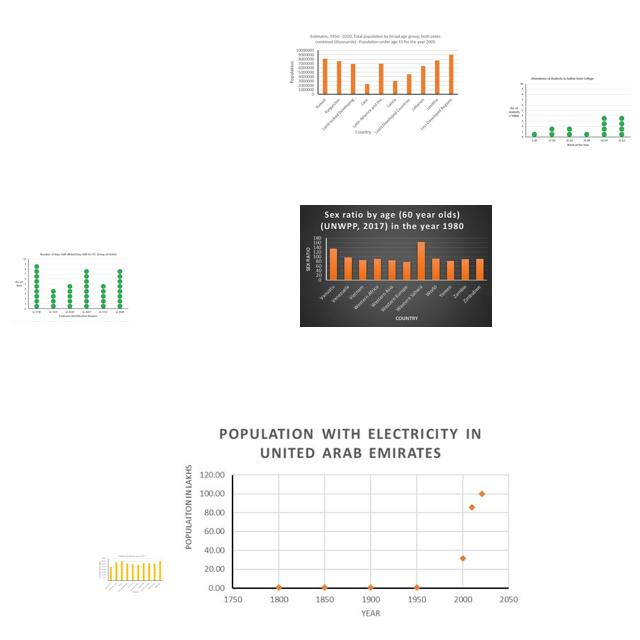Graph: (175, 417, 524, 630), (300, 205, 492, 327), (289, 31, 461, 135), (506, 75, 633, 149), (12, 250, 130, 322), (99, 554, 164, 593)
